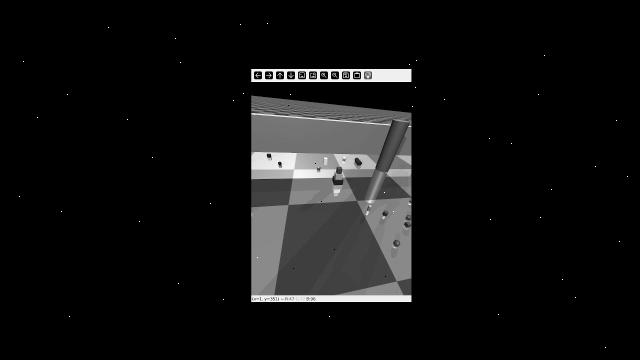cilindro: (375, 119, 409, 171), (354, 156, 364, 169), (366, 204, 372, 212), (381, 208, 386, 215)
cuadrado: (403, 221, 412, 229), (337, 167, 342, 174), (335, 174, 342, 179), (266, 152, 272, 157), (321, 157, 328, 160)
esfera: (393, 237, 401, 248), (276, 159, 282, 166), (315, 166, 322, 171), (404, 214, 411, 219), (341, 155, 347, 160)
rectangulo: (332, 175, 343, 185)
